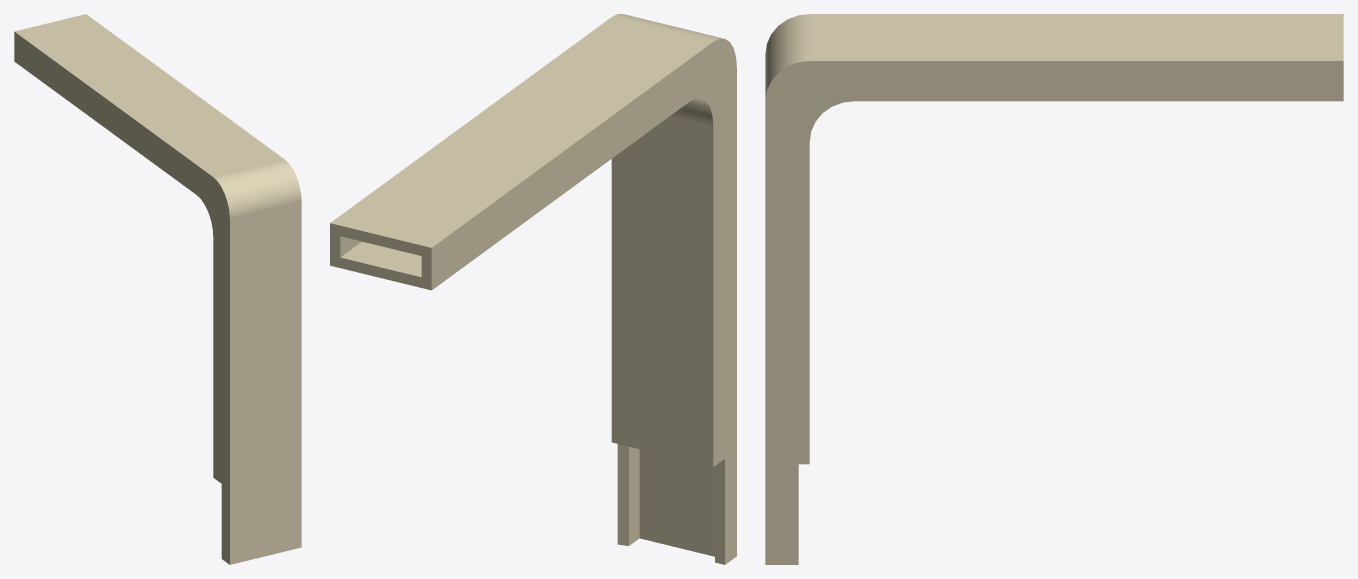
Rendered from Pieza10.glb.
3 renders of one model, left to right at view 1: azimuth 30°, elevation 25°; view 2: azimuth 150°, elevation 25°; view 3: azimuth 270°, elevation 25°, orthographic. The views are drawn at different scales.
Parts seen in each view (by area): view 1: Sólido1; view 2: Sólido1; view 3: Sólido1.
Part boxes in pixels (x1,y1,x2,y2): Sólido1: (14,14,301,564); Sólido1: (330,14,736,564); Sólido1: (765,14,1343,564).
Bounding box in the file's own units: 0.05 × 0.25 × 0.26.
